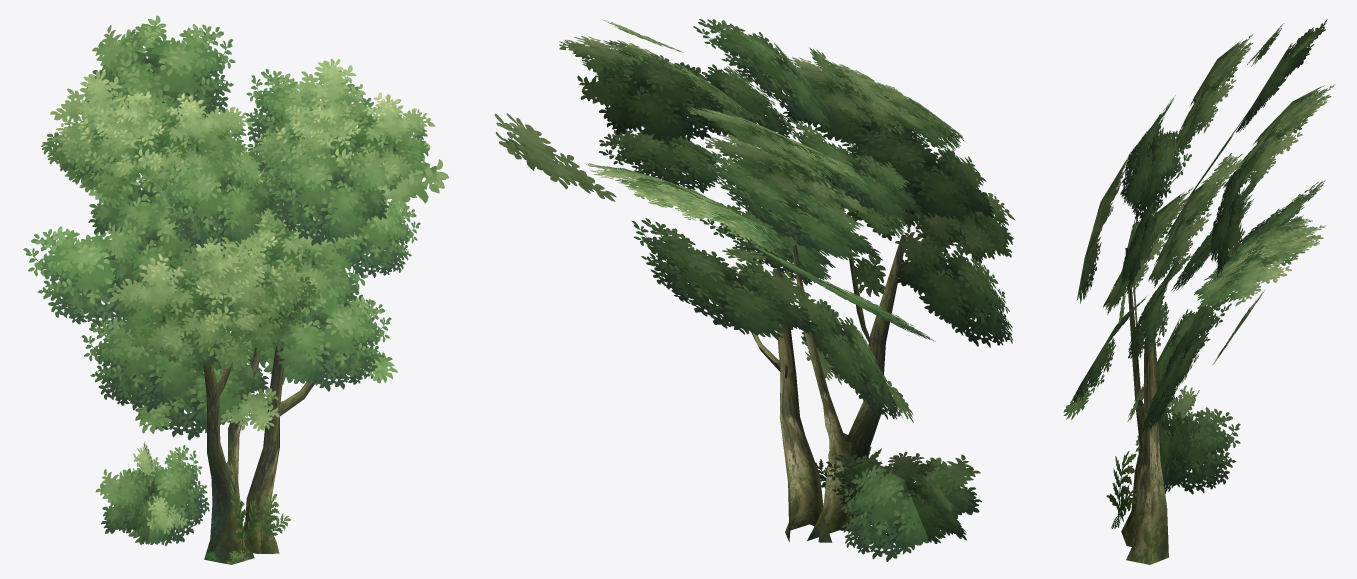
Rendered from shu_13.FBX.
3 renders of one model, left to right at view 1: azimuth 30°, elevation 25°; view 2: azimuth 150°, elevation 25°; view 3: azimuth 270°, elevation 25°, orthographic. The views are drawn at different scales.
Visible parts, largest first — view 1: shu_13; view 2: shu_13; view 3: shu_13.
Part boxes in pixels (x1,y1,x2,y2): shu_13: (23, 15, 448, 564); shu_13: (494, 19, 1015, 561); shu_13: (1063, 19, 1335, 564).
Size of the model in its own units: 361 by 409 by 205.
